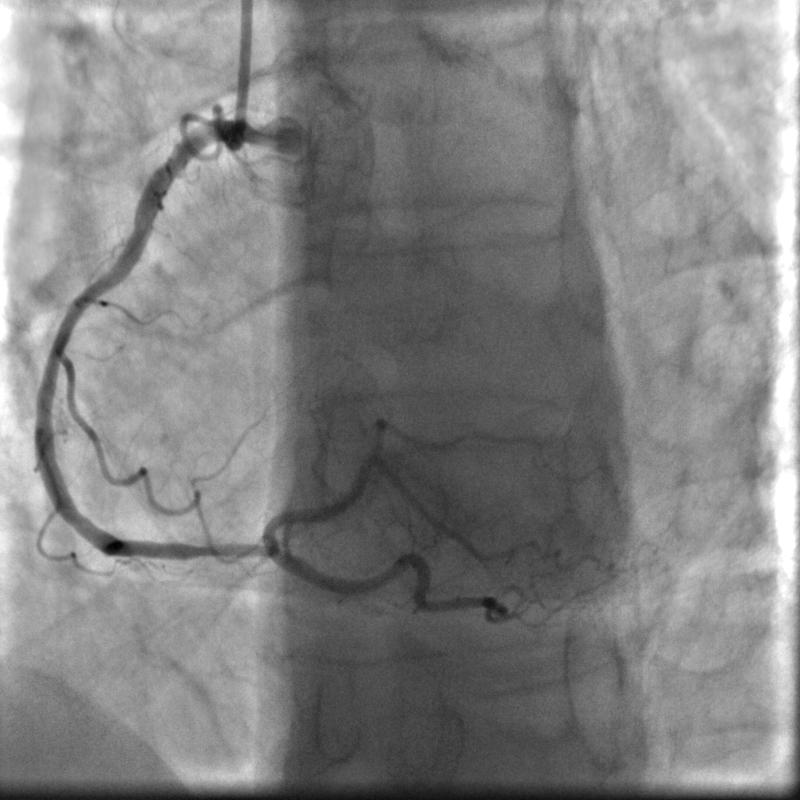Stenosis: (181, 531, 265, 575)
